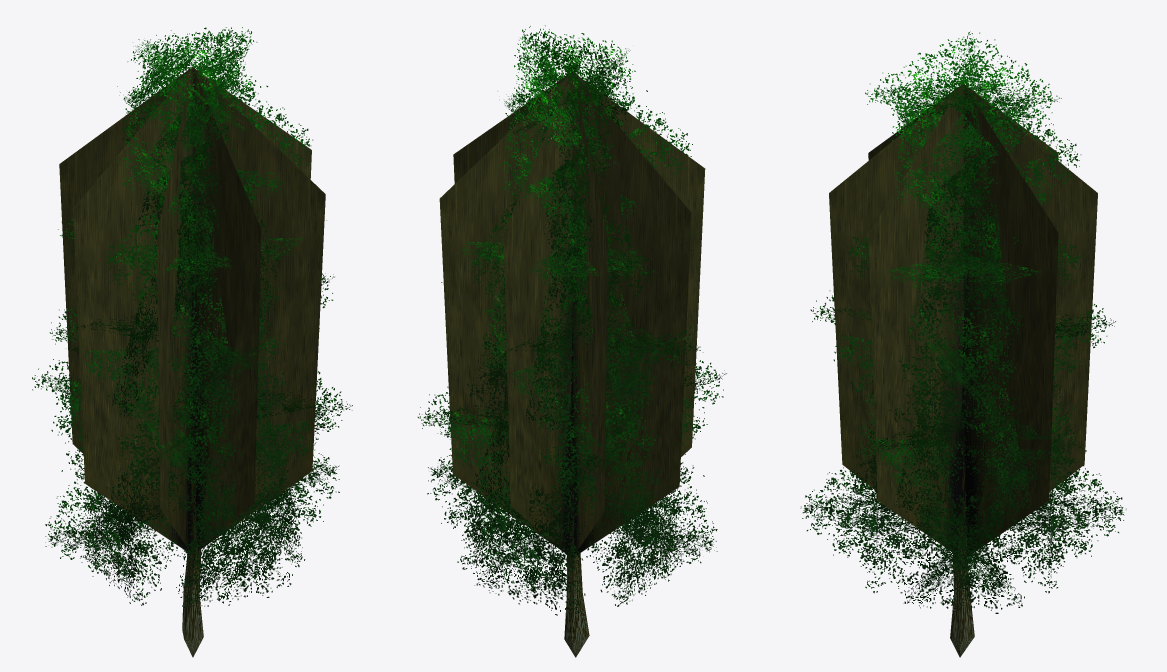
The model's file is populier_2.fbx.
3 views of the same model, side by side, from view 1: azimuth 30°, elevation 25°; view 2: azimuth 150°, elevation 25°; view 3: azimuth 270°, elevation 25° (orthographic). The views are drawn at different scales.
Parts seen in each view (by area): view 1: populier_2; view 2: populier_2; view 3: populier_2.
Boxes of the visible parts, x1,y1,x2,y2 form: populier_2: (32, 27, 352, 657); populier_2: (417, 25, 726, 657); populier_2: (800, 31, 1126, 657).
Size of the model in its own units: 1406 by 2515 by 1406.
